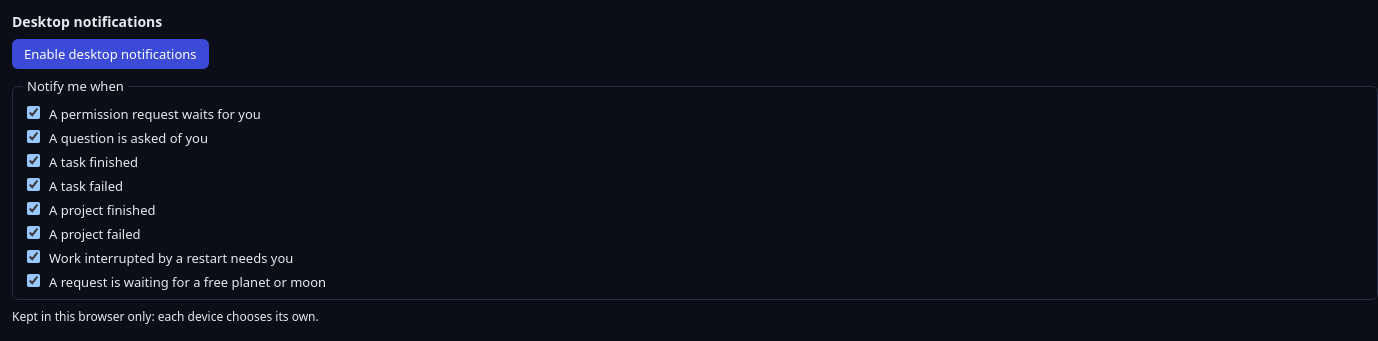
Test: NotificationSettings › explains a refusal and stays off
Click the button "Enable desktop notifications" at (110, 54), box [12,39,208,69]
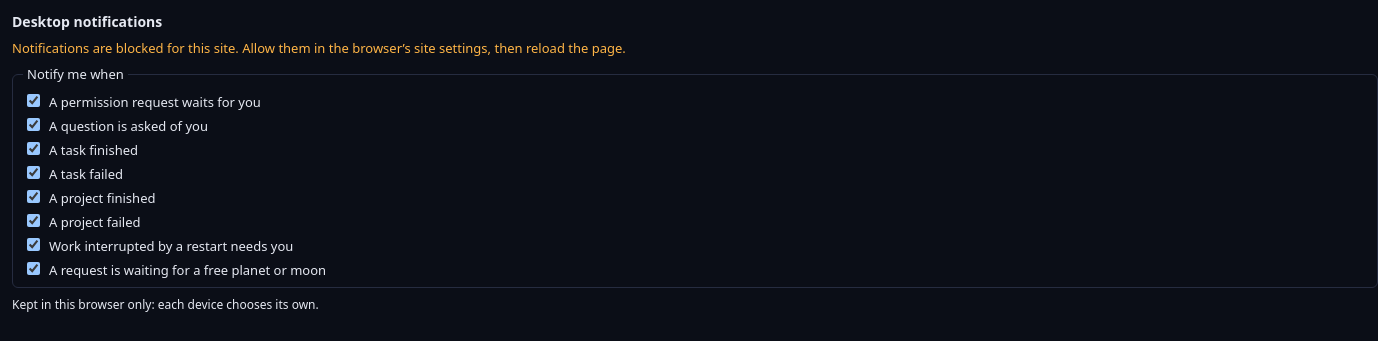
Result: the text "blocked for this site" is shown at [12,39,626,57]
Result: the button "Enable desktop notifications" is gone
